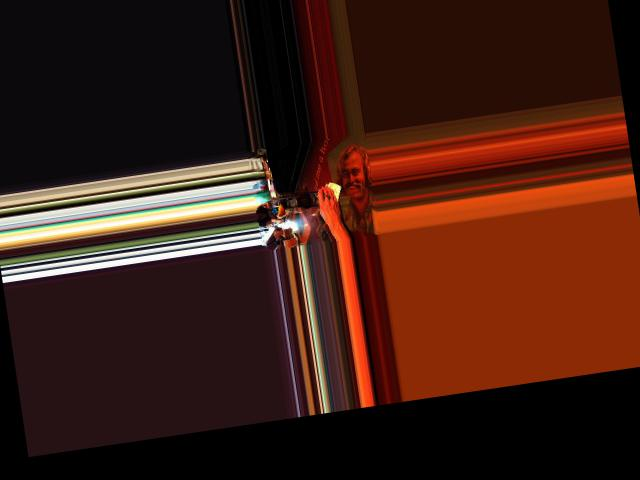beer: (278, 187, 335, 210)
